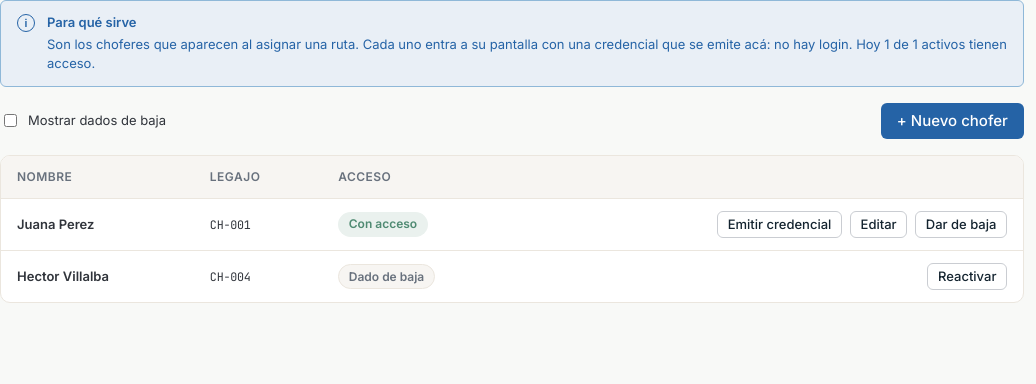
Scenario: CU-09 · choferes › reactivar deshace la baja y avisa que vuelve con la credencial que tenia
Click the checkbox labelled "Mostrar dados de baja" at (10, 121), box [4,114,17,127]
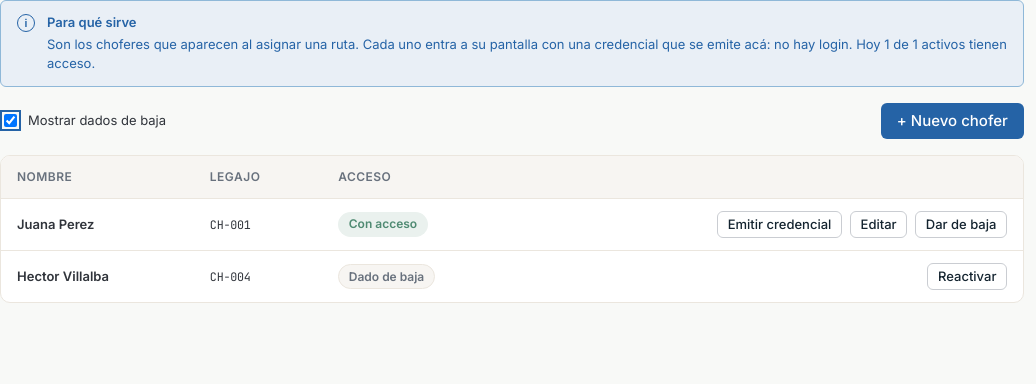
Click the button "Reactivar" at (967, 277), box [927,263,1007,290]
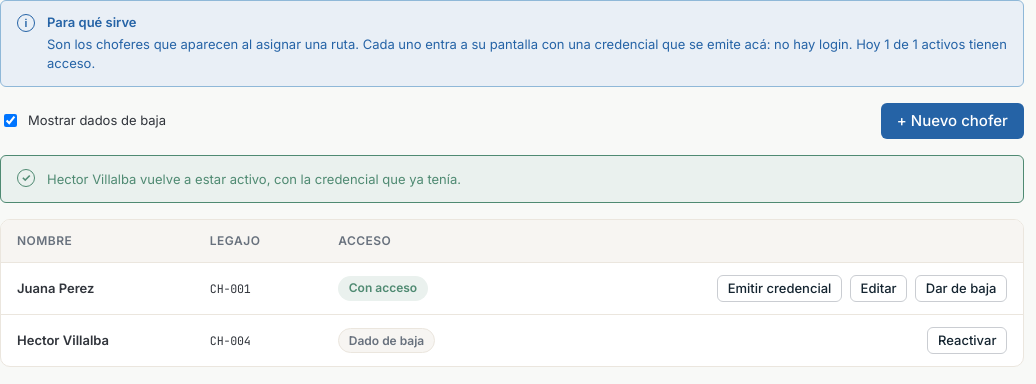
Expected: the text "Hector Villalba vuelve a estar activo, con la credencial que ya tenía" is shown, [47,171,461,187]
